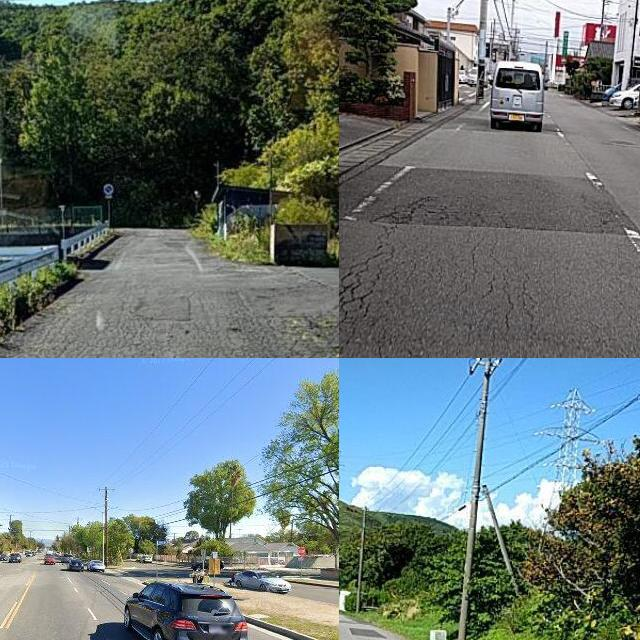Retak Buaya: (339, 253, 395, 358)
Sambungan: (339, 163, 637, 238), (339, 623, 414, 640)
